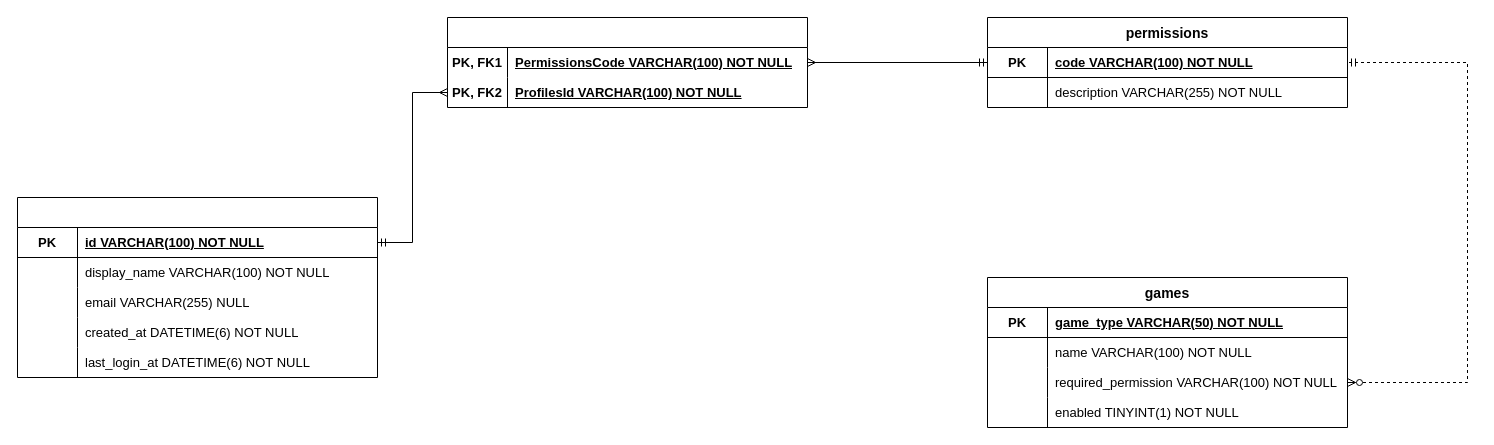
Image size: 1494x445. Some labels were removed from this diagram. The box of each missing label's shape, as (x1, y1, x2, y2) in pixels:
profile_permissions: (446, 16, 808, 108)
profiles: (16, 196, 378, 378)
